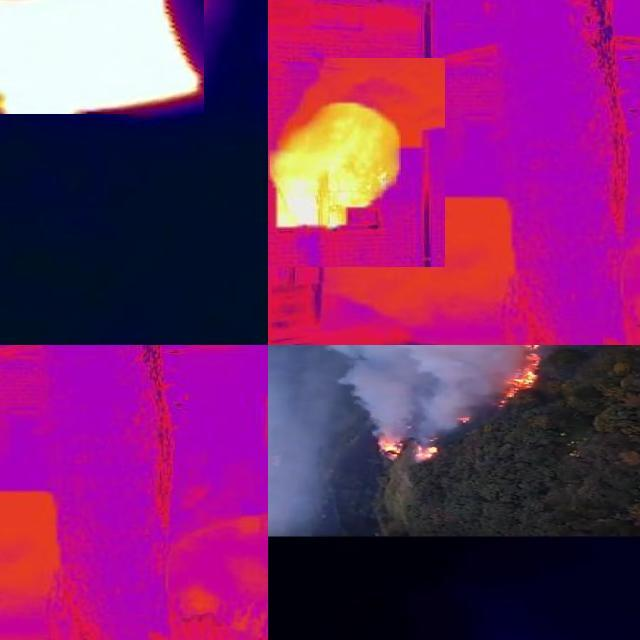fire: (1, 1, 204, 115), (268, 102, 407, 236)
